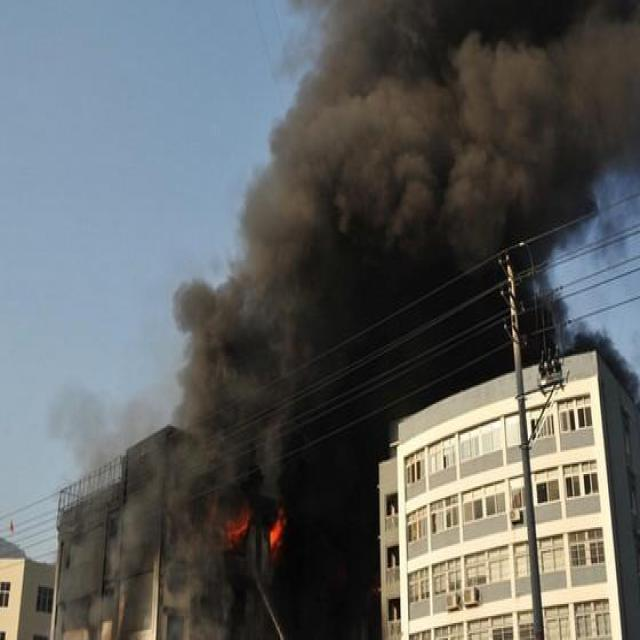fire: (225, 505, 252, 537), (266, 510, 285, 544)
smoke: (284, 4, 639, 222), (167, 265, 308, 428), (113, 466, 159, 574)
